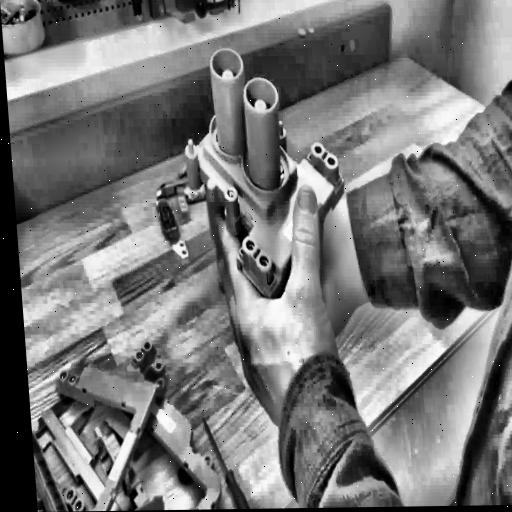connector: (173, 37, 356, 305)
